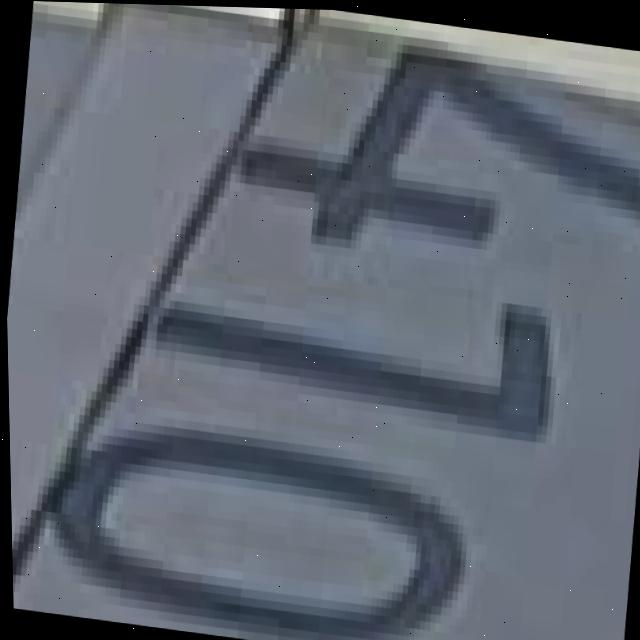character: (218, 12, 640, 297), (27, 401, 487, 640), (132, 246, 570, 460)
